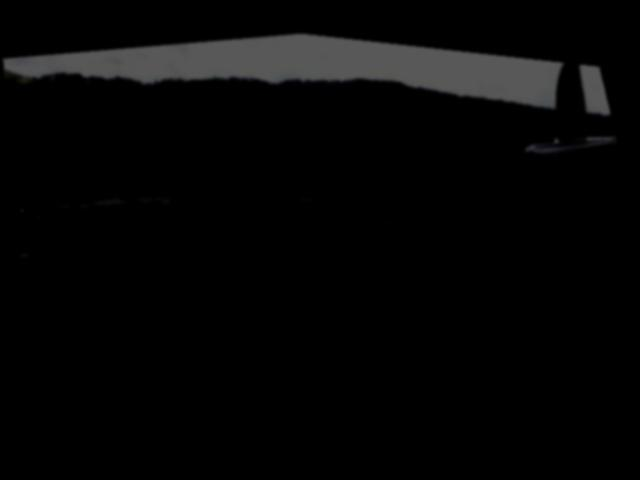iha: (500, 44, 626, 187)
